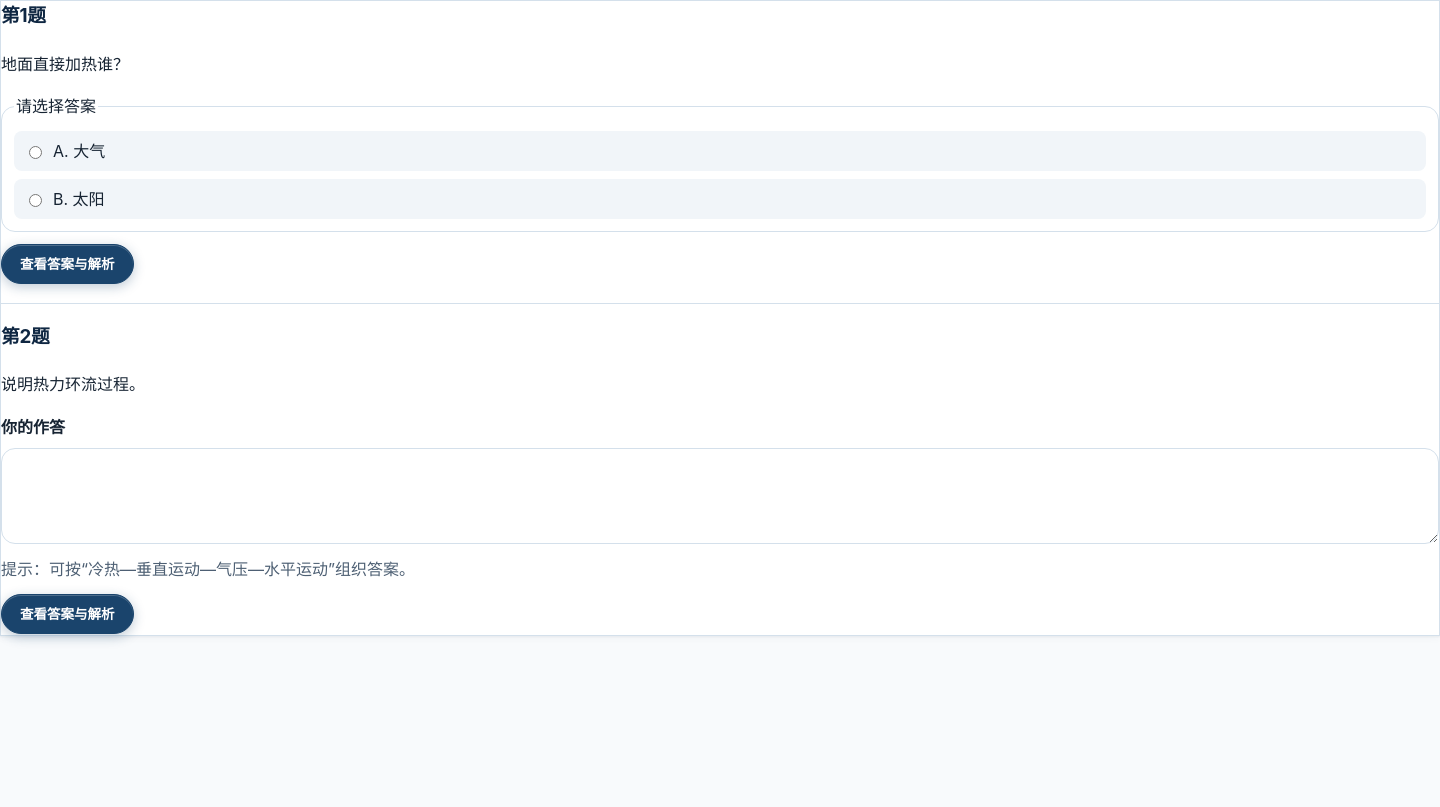
Scenario: PracticePanel › marks an unreplied choice as unanswered
Click the button "查看答案与解析" below "B. 太阳". click: click(67, 265)
box: [1,244,134,285]
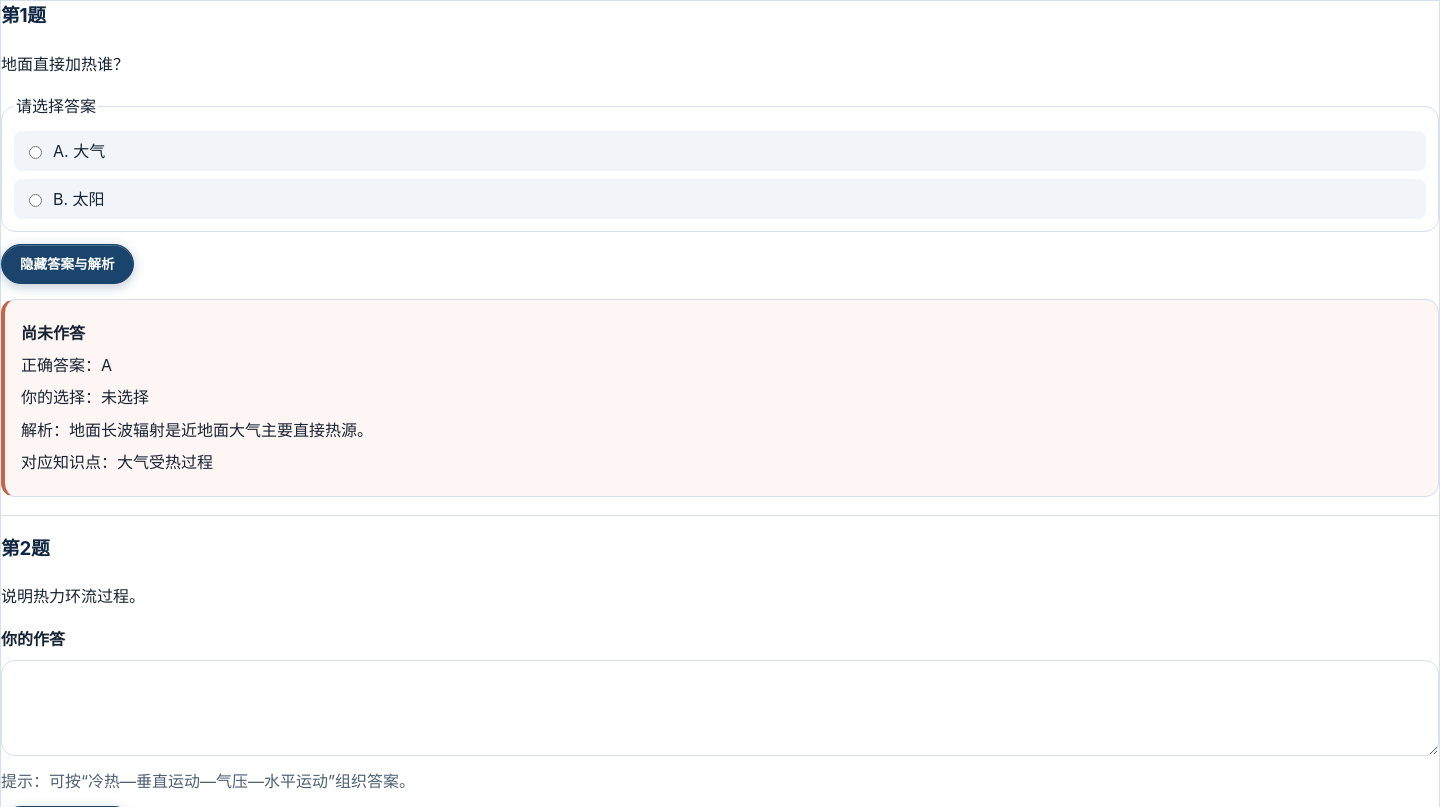
Now the message "尚未作答 正确答案：A 你的选择：未选择 解析：地面长波辐射是近地面大气主要直接热源。 对应知识点：大气受热过程" is shown, box [1,299,1439,497]
